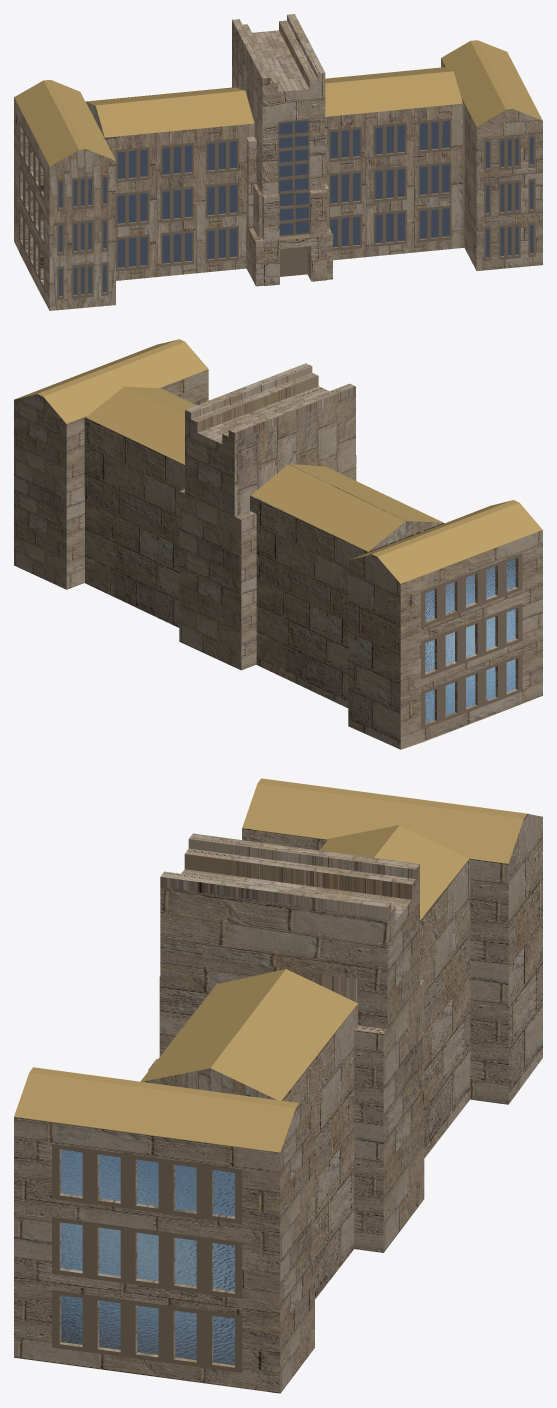
The model's file is mj_embedded.fbx.
The picture shows the model from 3 angles, top to bottom: view 1: azimuth 30°, elevation 25°; view 2: azimuth 150°, elevation 25°; view 3: azimuth 270°, elevation 25°; orthographic projection. The views are drawn at different scales.
Visible parts, largest first — view 1: 평면.002; view 2: 평면.002; view 3: 평면.002.
Part boxes in pixels (x1,y1,x2,y2): 평면.002: (14, 14, 542, 310); 평면.002: (14, 339, 542, 749); 평면.002: (14, 778, 542, 1393).
Size of the model in its own units: 16609 by 7096 by 9918.
4 materials, 2 textured.
